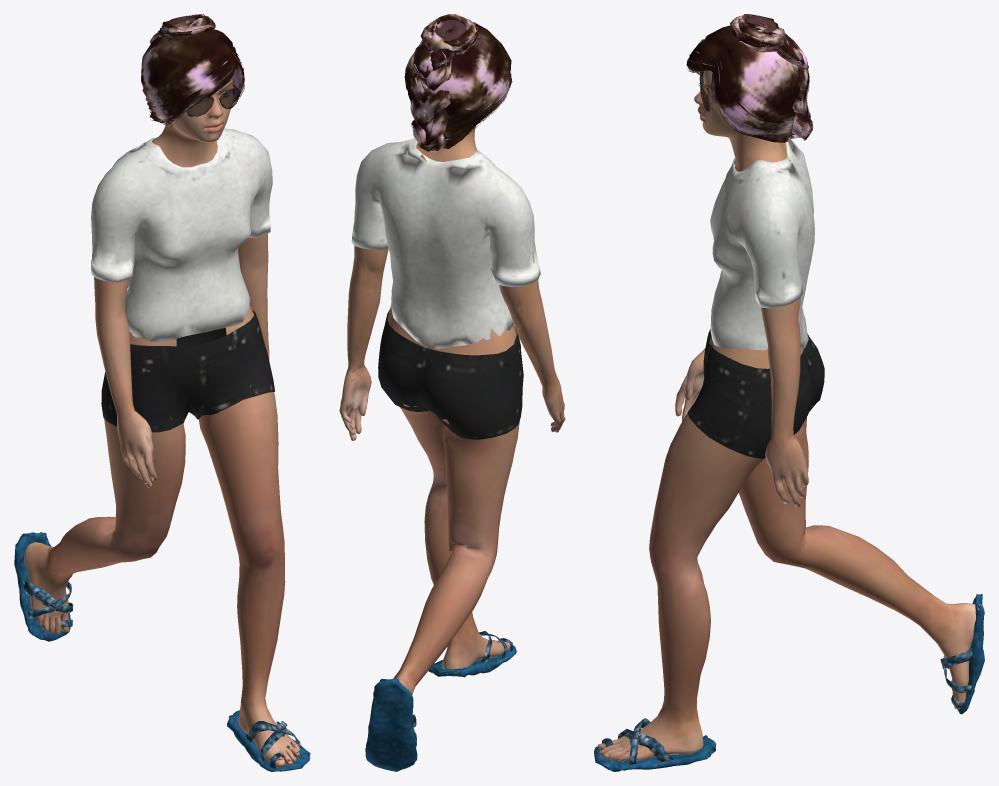
The picture shows the model from 3 angles, left to right: view 1: azimuth 30°, elevation 25°; view 2: azimuth 150°, elevation 25°; view 3: azimuth 270°, elevation 25°; orthographic projection. The views are drawn at different scales.
Visible parts, largest first — view 1: p03799; view 2: p03799; view 3: p03799.
Boxes of the visible parts, bbox=[...] form: p03799: bbox=[14, 14, 310, 771]; p03799: bbox=[339, 14, 565, 771]; p03799: bbox=[594, 14, 984, 771].
Size of the model in its own units: 0.4478 by 1.65 by 0.7975.
1 material, 1 textured.
